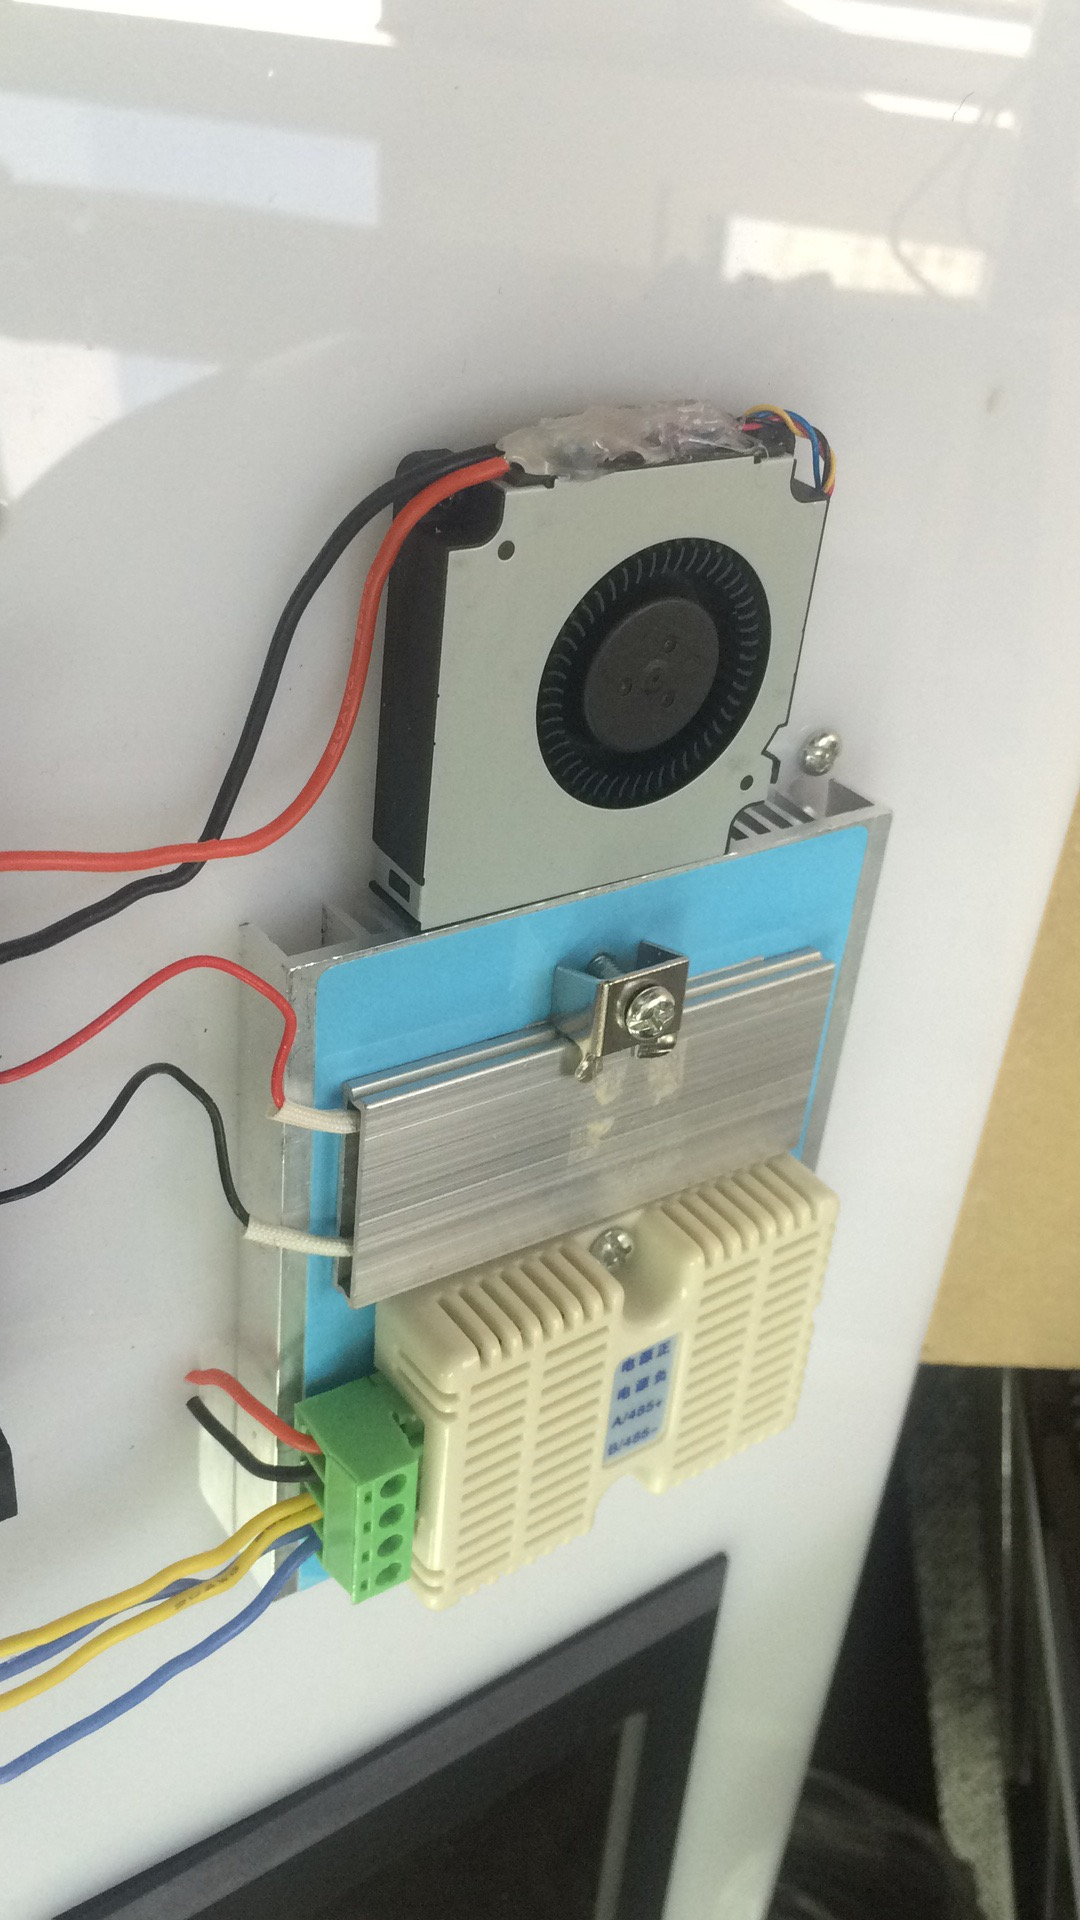fan: (357, 411, 800, 866)
heater: (343, 960, 831, 1162)
temperature: (396, 1234, 845, 1596)
